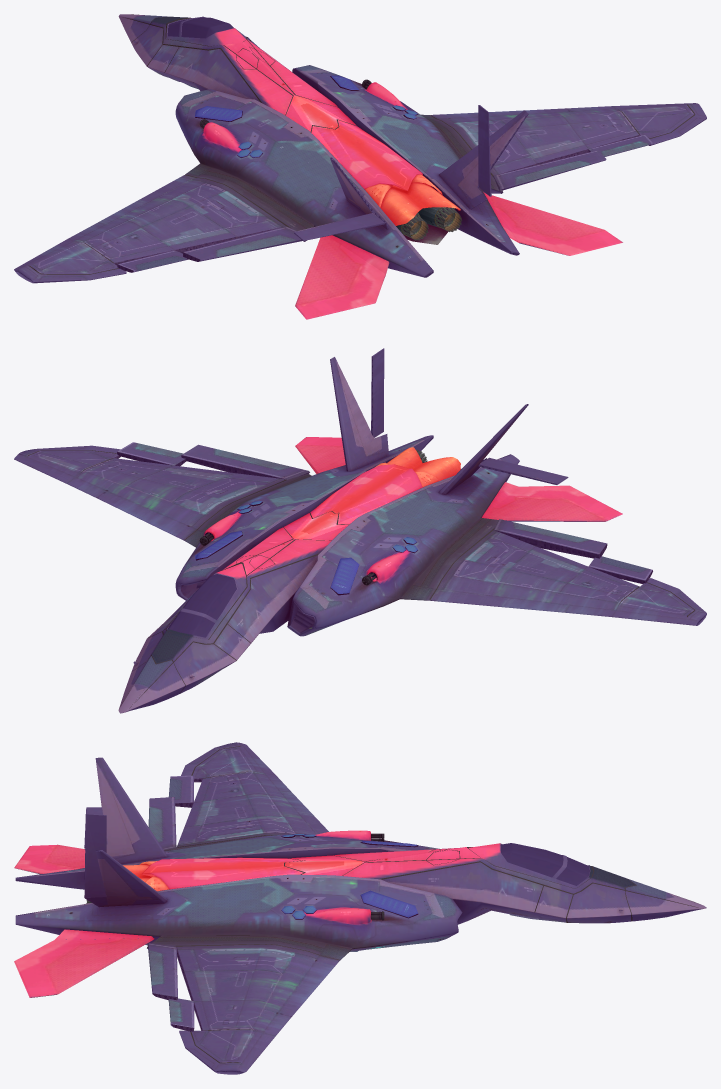
The picture shows the model from 3 angles, top to bottom: view 1: azimuth 30°, elevation 25°; view 2: azimuth 150°, elevation 25°; view 3: azimuth 270°, elevation 25°; orthographic projection.
Visible parts, largest first — view 1: XA-20_Razorback_LOD0, XA-20_Razorback_ElevatorL01, XA-20_Razorback_ElevatorR01, XA-20_Razorback_FlapL02, XA-20_Razorback_FlapR02, XA-20_Razorback_LRudder02, XA-20_Razorback_RRudder02, XA-20_Razorback_Cockpit_glass, XA-20_Razorback_EngineR01, XA-20_Razorback_AileronL01, XA-20_Razorback_AileronR01, XA-20_Razorback_EngineL01; view 2: XA-20_Razorback_LOD0, XA-20_Razorback_ElevatorL01, XA-20_Razorback_Cockpit_glass, XA-20_Razorback_FlapR02, XA-20_Razorback_FlapL02, XA-20_Razorback_ElevatorR01, XA-20_Razorback_RRudder02, XA-20_Razorback_AileronR01, XA-20_Razorback_AileronL01, XA-20_Razorback_LRudder02; view 3: XA-20_Razorback_LOD0, XA-20_Razorback_ElevatorR01, XA-20_Razorback_Cockpit_glass, XA-20_Razorback_ElevatorL01, XA-20_Razorback_RRudder02, XA-20_Razorback_FlapR02, XA-20_Razorback_FlapL02, XA-20_Razorback_AileronR01, XA-20_Razorback_AileronL01.
Part boxes in pixels (x1,y1,x2,y2): XA-20_Razorback_LOD0: (14, 14, 706, 283); XA-20_Razorback_ElevatorL01: (295, 236, 385, 319); XA-20_Razorback_ElevatorR01: (485, 193, 622, 255); XA-20_Razorback_FlapL02: (183, 226, 302, 261); XA-20_Razorback_FlapR02: (493, 150, 606, 190); XA-20_Razorback_LRudder02: (294, 213, 384, 240); XA-20_Razorback_RRudder02: (478, 105, 491, 196); XA-20_Razorback_Cockpit_glass: (167, 17, 233, 38); XA-20_Razorback_EngineR01: (418, 207, 461, 231); XA-20_Razorback_AileronL01: (117, 250, 188, 272); XA-20_Razorback_AileronR01: (588, 135, 652, 156); XA-20_Razorback_EngineL01: (396, 212, 428, 240); XA-20_Razorback_LOD0: (14, 357, 706, 713); XA-20_Razorback_ElevatorL01: (484, 485, 622, 521); XA-20_Razorback_Cockpit_glass: (168, 574, 236, 637); XA-20_Razorback_FlapR02: (181, 444, 309, 479); XA-20_Razorback_FlapL02: (493, 519, 607, 558); XA-20_Razorback_ElevatorR01: (295, 437, 345, 473); XA-20_Razorback_RRudder02: (371, 348, 384, 437); XA-20_Razorback_AileronR01: (117, 442, 186, 466); XA-20_Razorback_AileronL01: (588, 556, 652, 583); XA-20_Razorback_LRudder02: (478, 457, 568, 484); XA-20_Razorback_LOD0: (15, 742, 706, 1074); XA-20_Razorback_ElevatorR01: (14, 938, 153, 997); XA-20_Razorback_Cockpit_glass: (500, 843, 589, 885); XA-20_Razorback_ElevatorL01: (14, 844, 85, 874); XA-20_Razorback_RRudder02: (84, 814, 106, 897); XA-20_Razorback_FlapR02: (147, 943, 177, 1000); XA-20_Razorback_FlapL02: (148, 797, 176, 849); XA-20_Razorback_AileronR01: (168, 998, 194, 1031); XA-20_Razorback_AileronL01: (168, 775, 193, 807).
Bounding box in the file's own units: 17.58 × 3.48 × 15.77.
4 materials, 4 textured.
